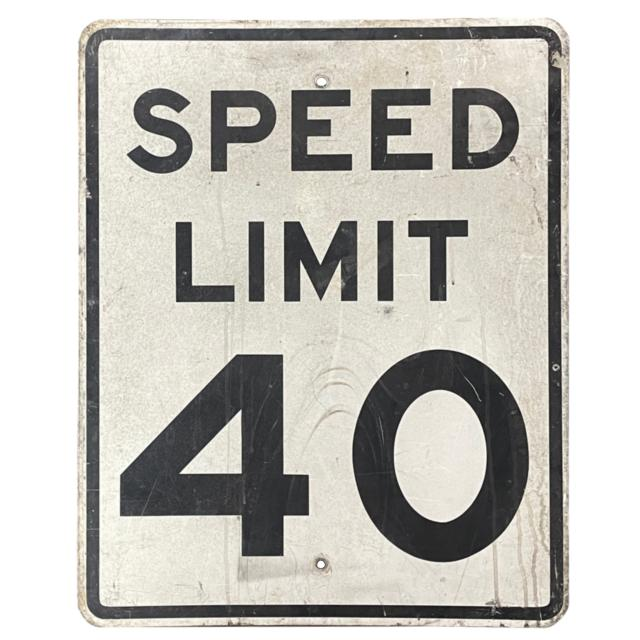speedLimit40: (78, 18, 571, 626)
